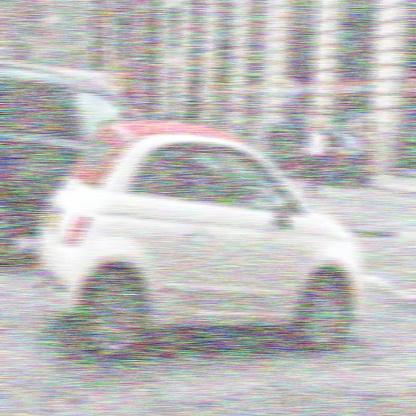Vehicle: (35, 120, 369, 363)
